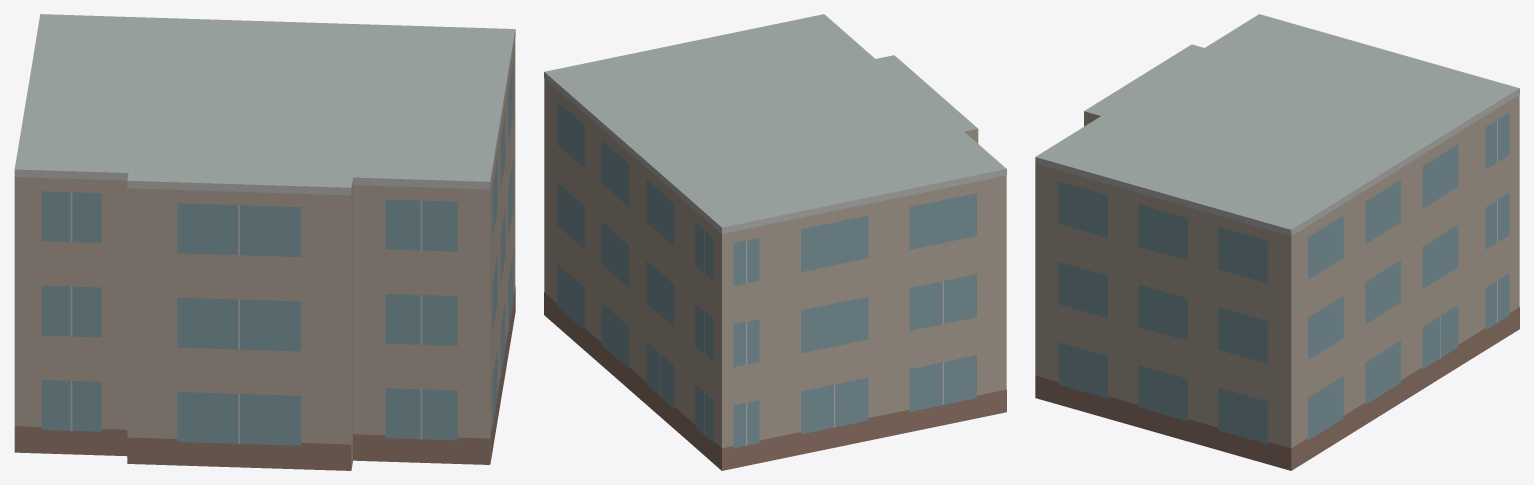
File: survey-upis-32780901.glb
3 views of the same model, side by side, from view 1: azimuth 30°, elevation 25°; view 2: azimuth 150°, elevation 25°; view 3: azimuth 270°, elevation 25° (orthographic). The views are drawn at different scales.
Parts seen in each view (by area): view 1: survey-upis-32780901.tmp; view 2: survey-upis-32780901.tmp; view 3: survey-upis-32780901.tmp.
Boxes of the visible parts, x1,y1,x2,y2 form: survey-upis-32780901.tmp: (14,14,515,470); survey-upis-32780901.tmp: (544,14,1006,470); survey-upis-32780901.tmp: (1035,14,1519,470).
Bounding box in the file's own units: 17.59 × 9.15 × 16.68.
